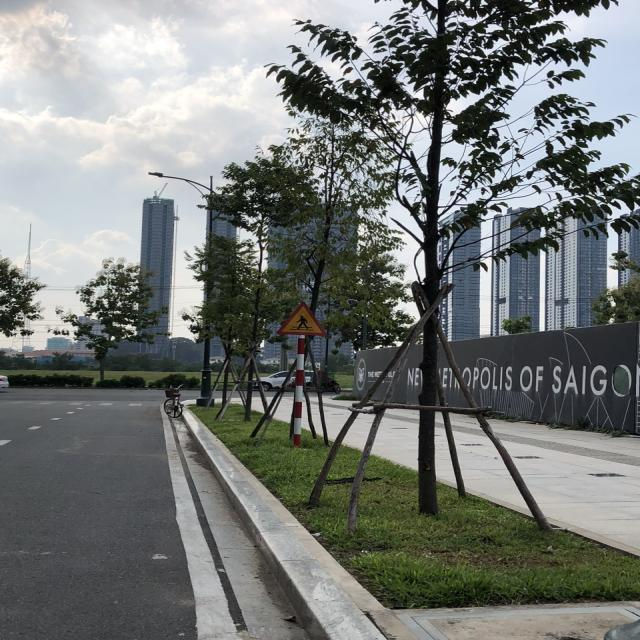Bien bao duong nguoi di bo cat ngang: (276, 298, 334, 340)
